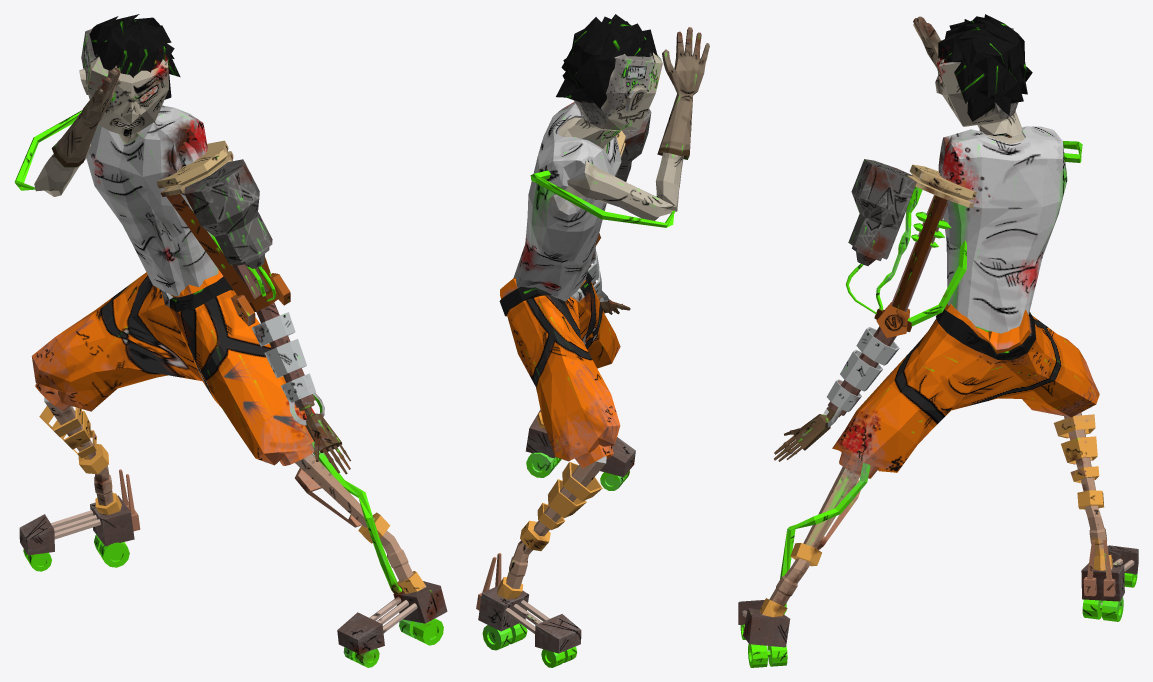
File: CyborgFINALAnimation_000057.obj
The picture shows the model from 3 angles, left to right: view 1: azimuth 30°, elevation 25°; view 2: azimuth 150°, elevation 25°; view 3: azimuth 270°, elevation 25°; orthographic projection. The views are drawn at different scales.
Visible parts, largest first — view 1: CyborgMesh_Cube.002; view 2: CyborgMesh_Cube.002; view 3: CyborgMesh_Cube.002.
Boxes of the visible parts, box(x1,y1,x2,y2) form: CyborgMesh_Cube.002: box(14, 14, 447, 667); CyborgMesh_Cube.002: box(476, 14, 709, 667); CyborgMesh_Cube.002: box(738, 14, 1138, 667).
Bounding box in the file's own units: 4.24 × 8.63 × 5.44.
